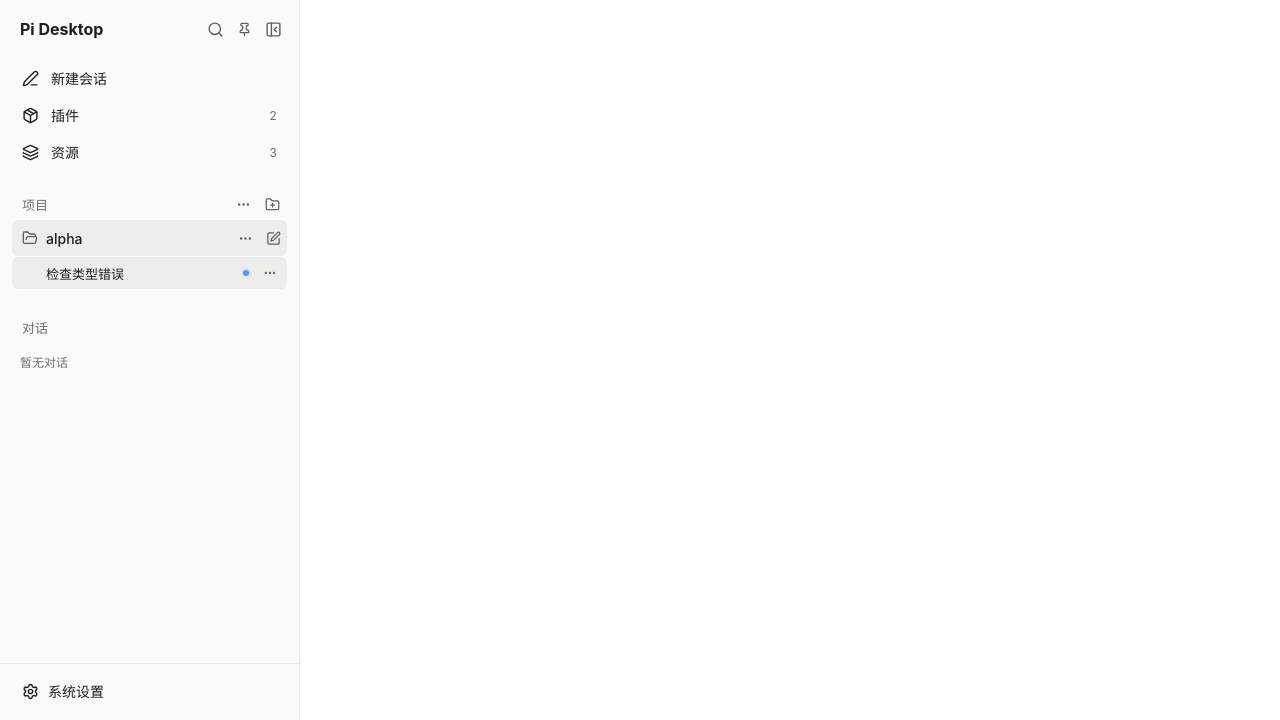
Test: AppSidebar › 支持在文件夹中显示项目并创建、打开永久工作树
Step 1. Click the button named "alpha更多操作" → point(245, 238), box [231,224,259,252]
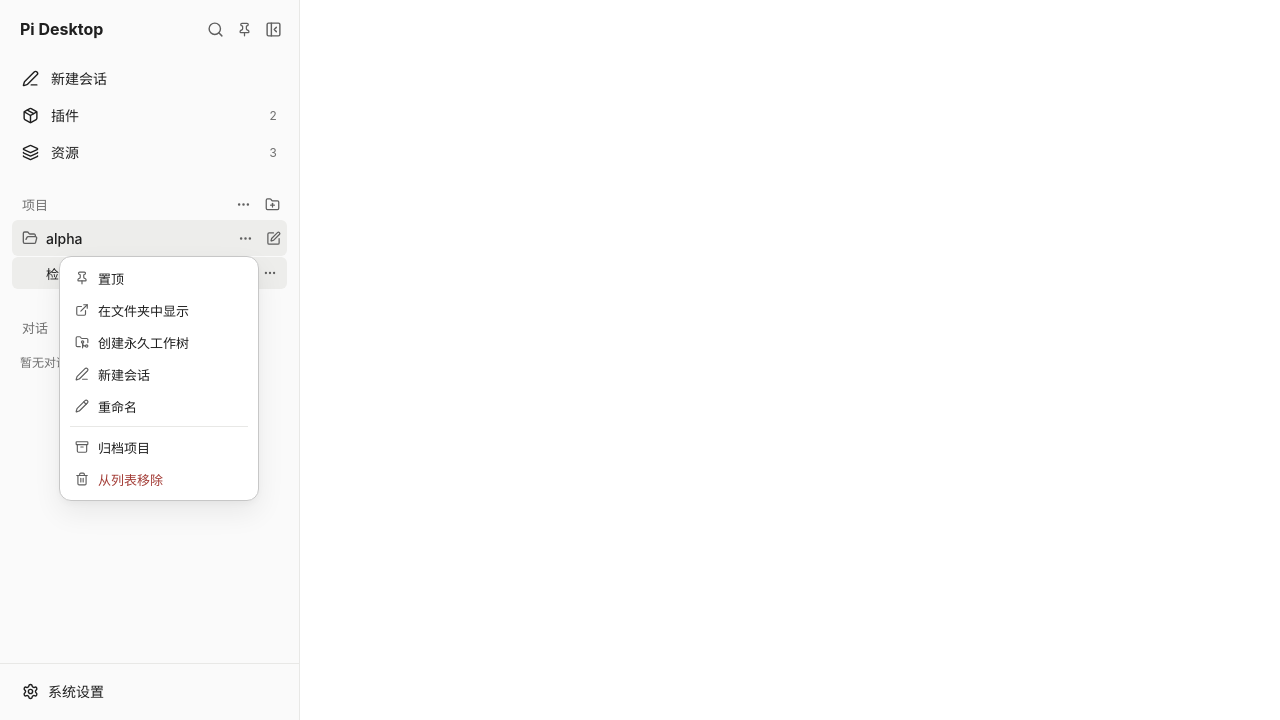
Step 2. Click the menu item "在文件夹中显示" → point(159, 310), box [65,294,253,326]
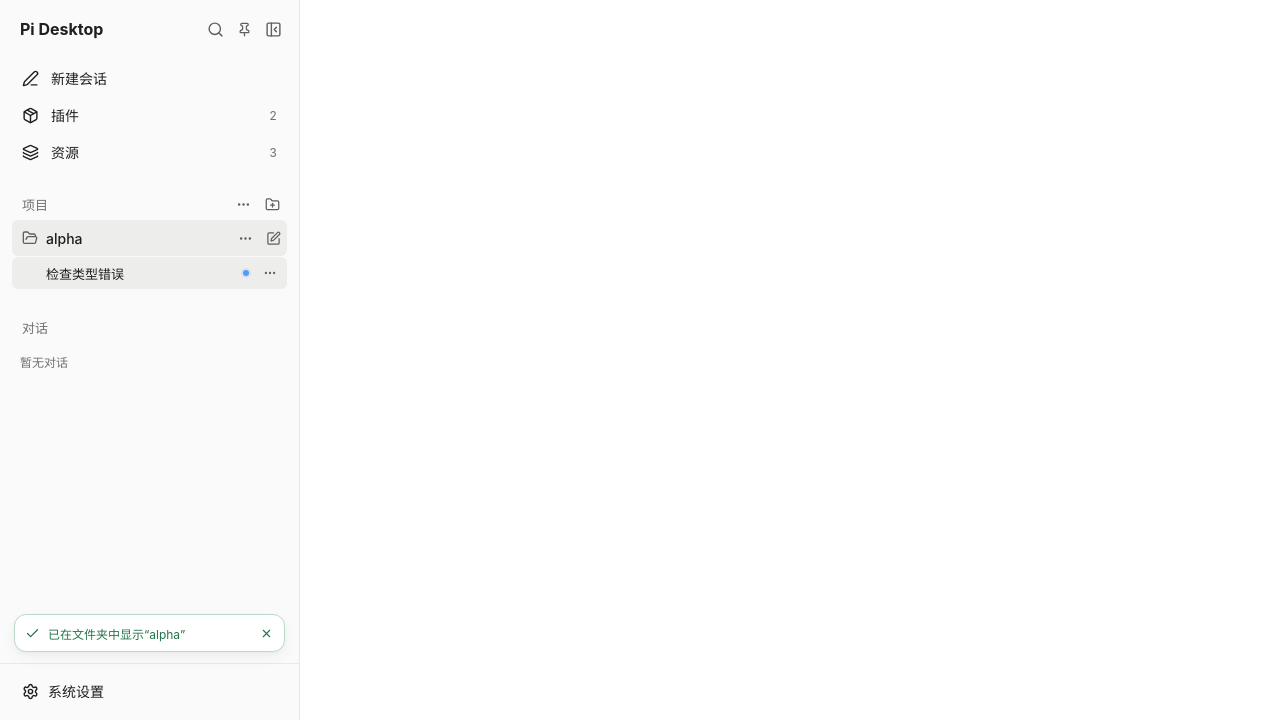
Expected: the text "已在文件夹中显示“alpha”" is shown, [48,626,185,642]
Step 3. Click the button named "alpha更多操作" → point(245, 238), box [231,224,259,252]
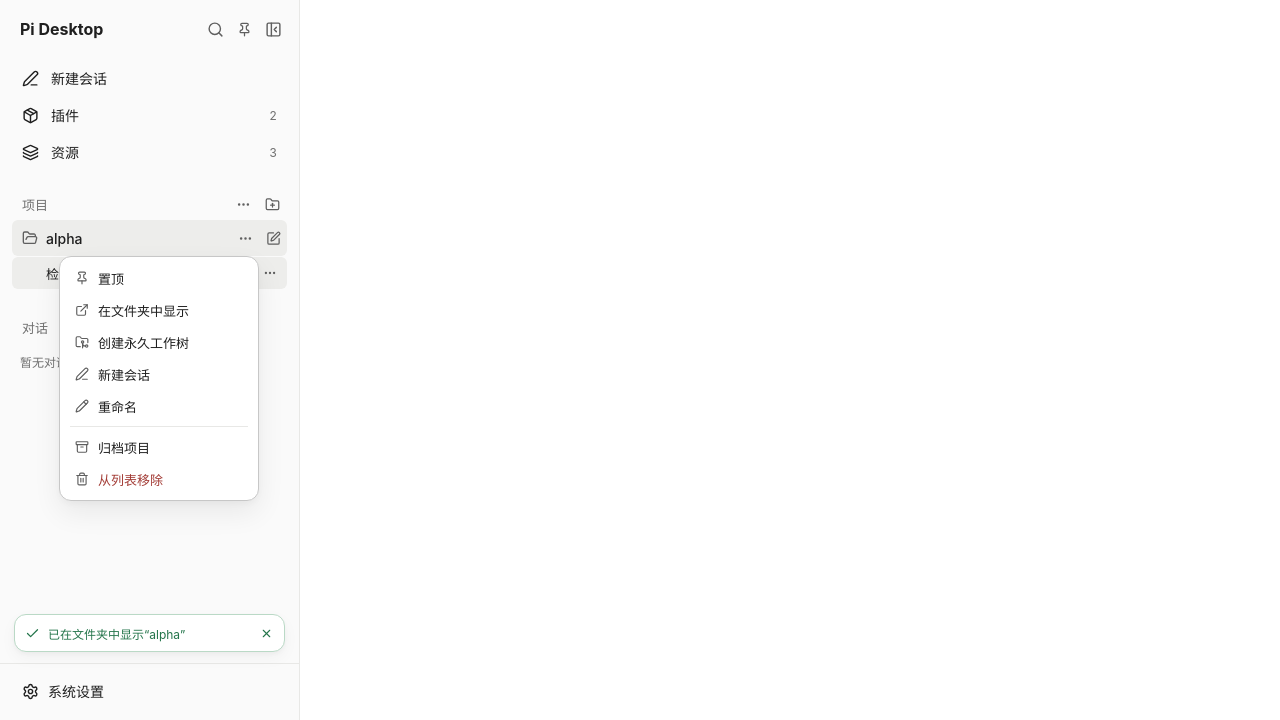
Step 4. Click the menu item "创建永久工作树" → point(159, 342), box [65,326,253,358]
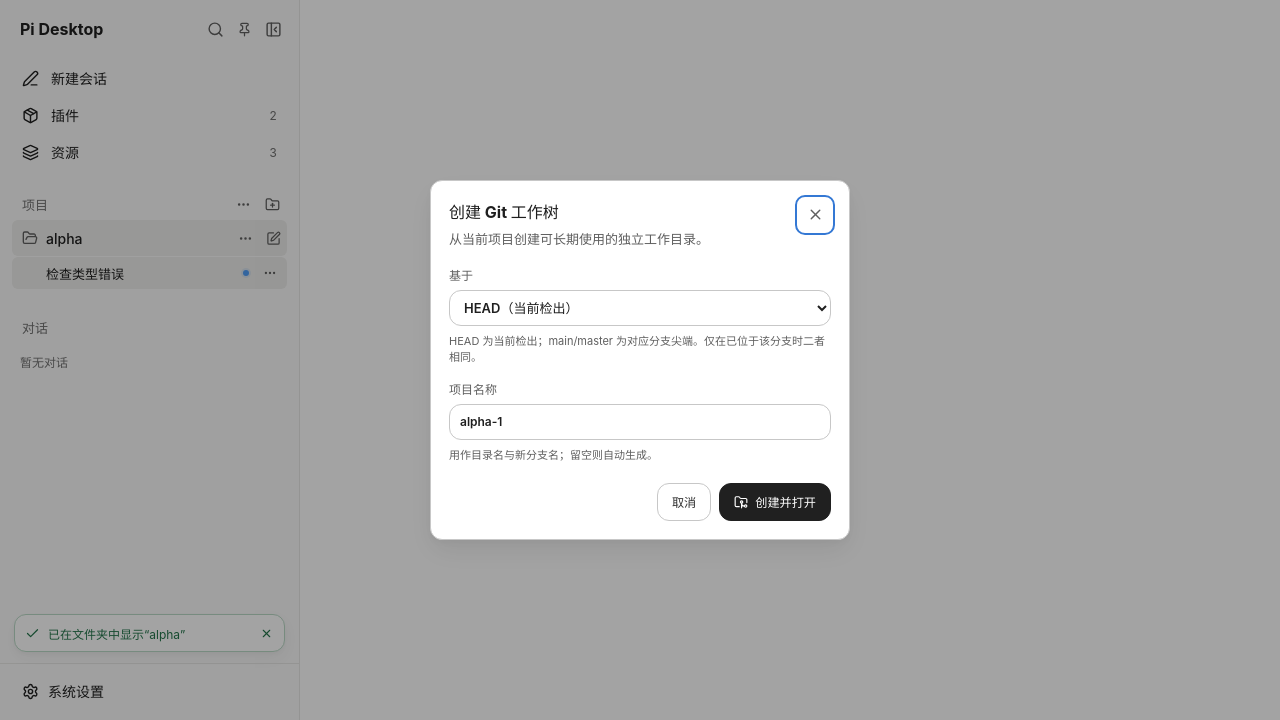
Expected: the dialog "创建 Git 工作树" is shown, [430,180,850,540]
Expected: the field labelled "项目名称 用作目录名与新分支名；留空则自动生成。" holds "alpha-1", [449,404,831,440]
Step 5. Select "main（当前）" in the dropdown labelled "基于 HEAD 为当前检出；main/master 为对应分支尖端。仅在已位于该分支时二者相同。" → point(640, 308), box [449,290,831,326]
Step 6. Type "alpha-feature" into the field labelled "项目名称 用作目录名与新分支名；留空则自动生成。" → point(640, 422), box [449,404,831,440]
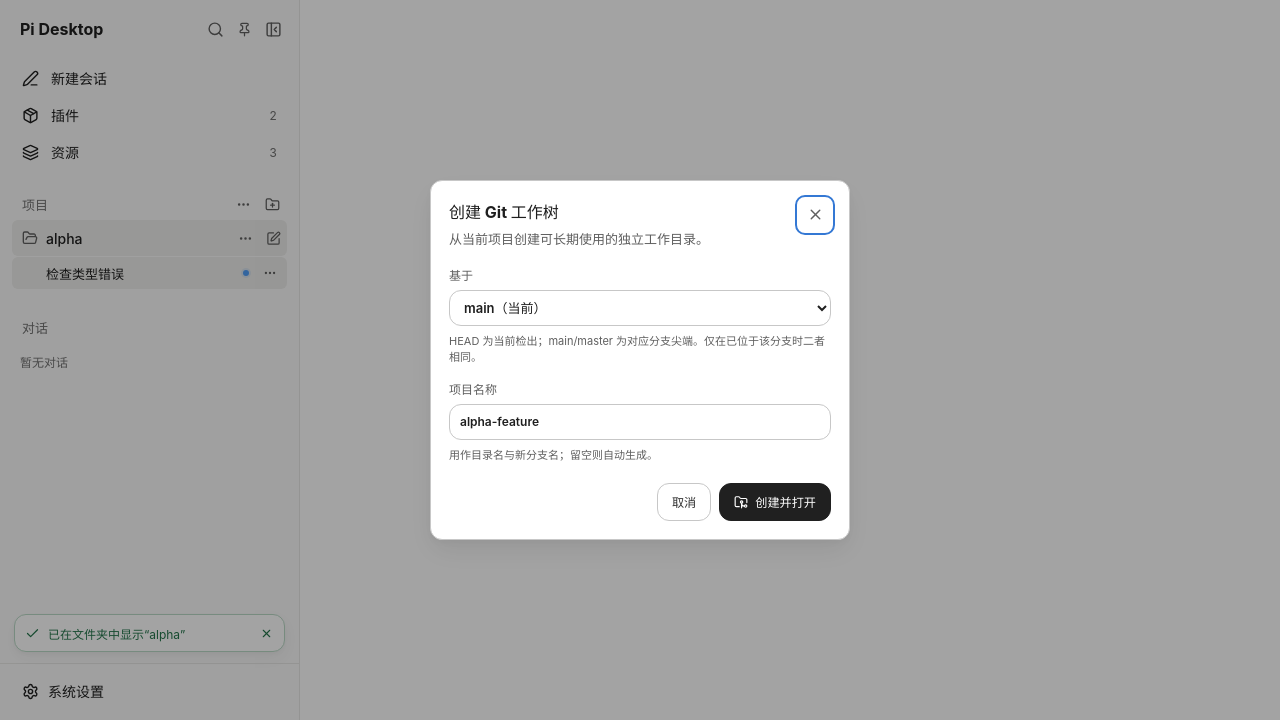
Step 7. Click the button "创建并打开" → point(775, 502), box [719,483,831,521]
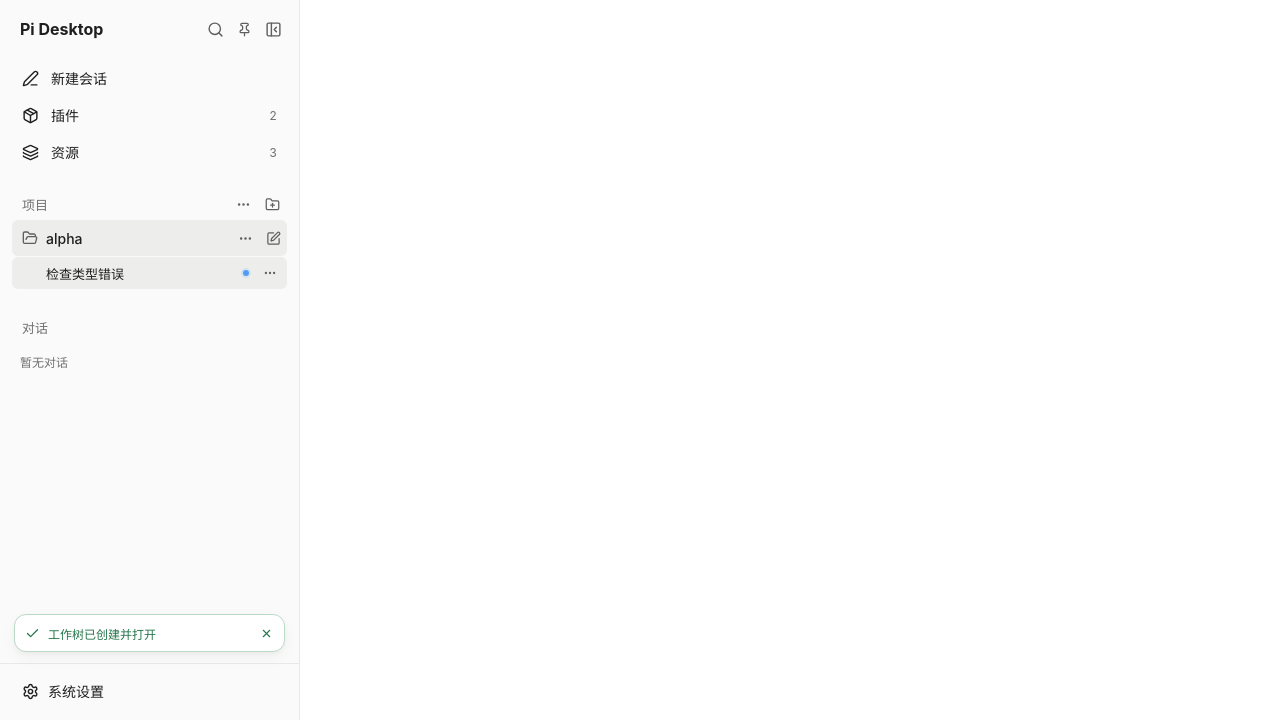
Expected: the text "工作树已创建并打开" is shown, [48,626,156,642]
Expected: the heading "创建 Git 工作树" is gone
